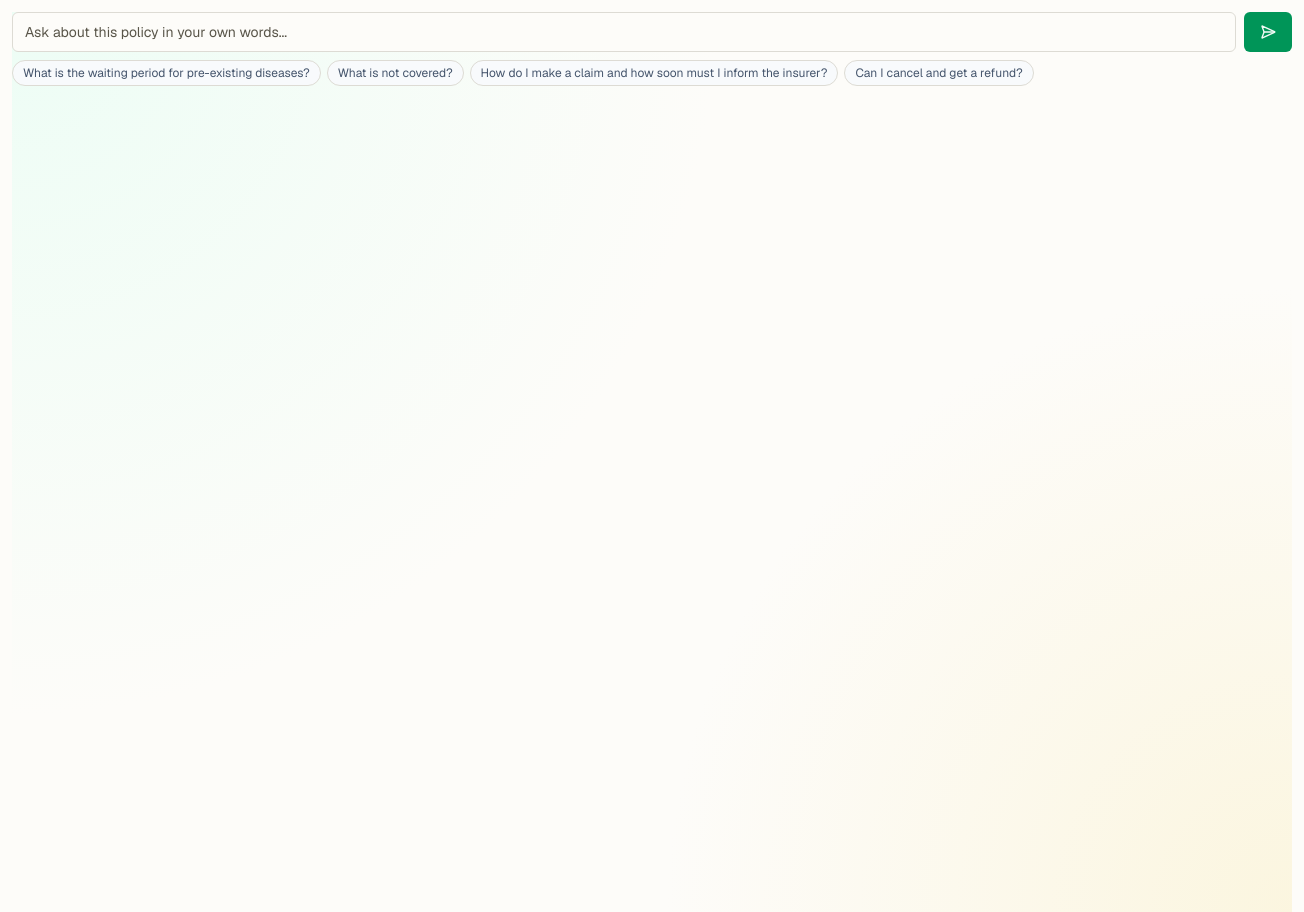
Test case: policy Q&A interface › explains a failure without exposing internals
Type "What is excluded?" into the field with placeholder "Ask about this policy in your own words..." at (624, 32), box left=12, top=12, right=1236, bottom=52
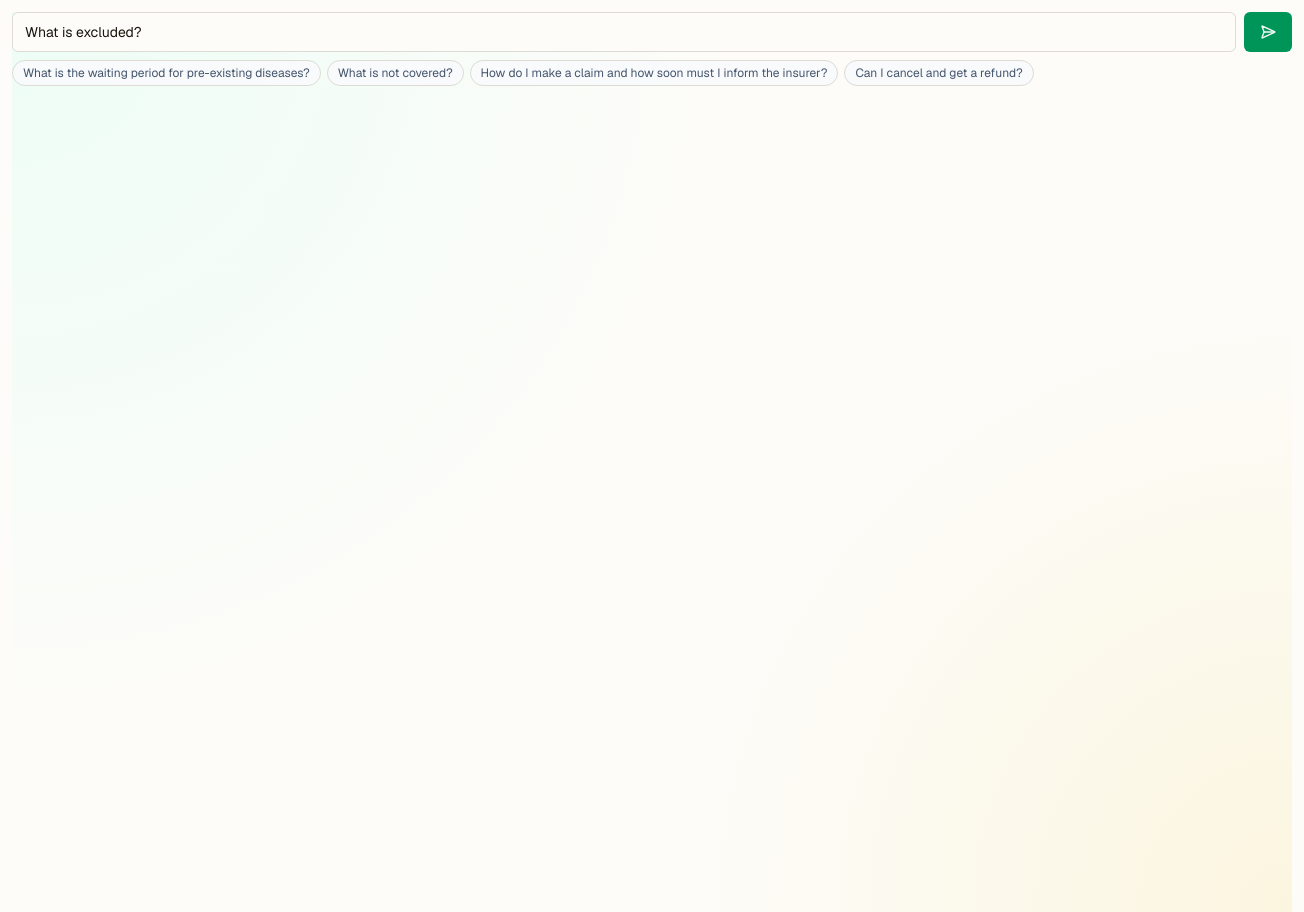
Click the button named "Ask" at (1268, 32), box left=1244, top=12, right=1292, bottom=52
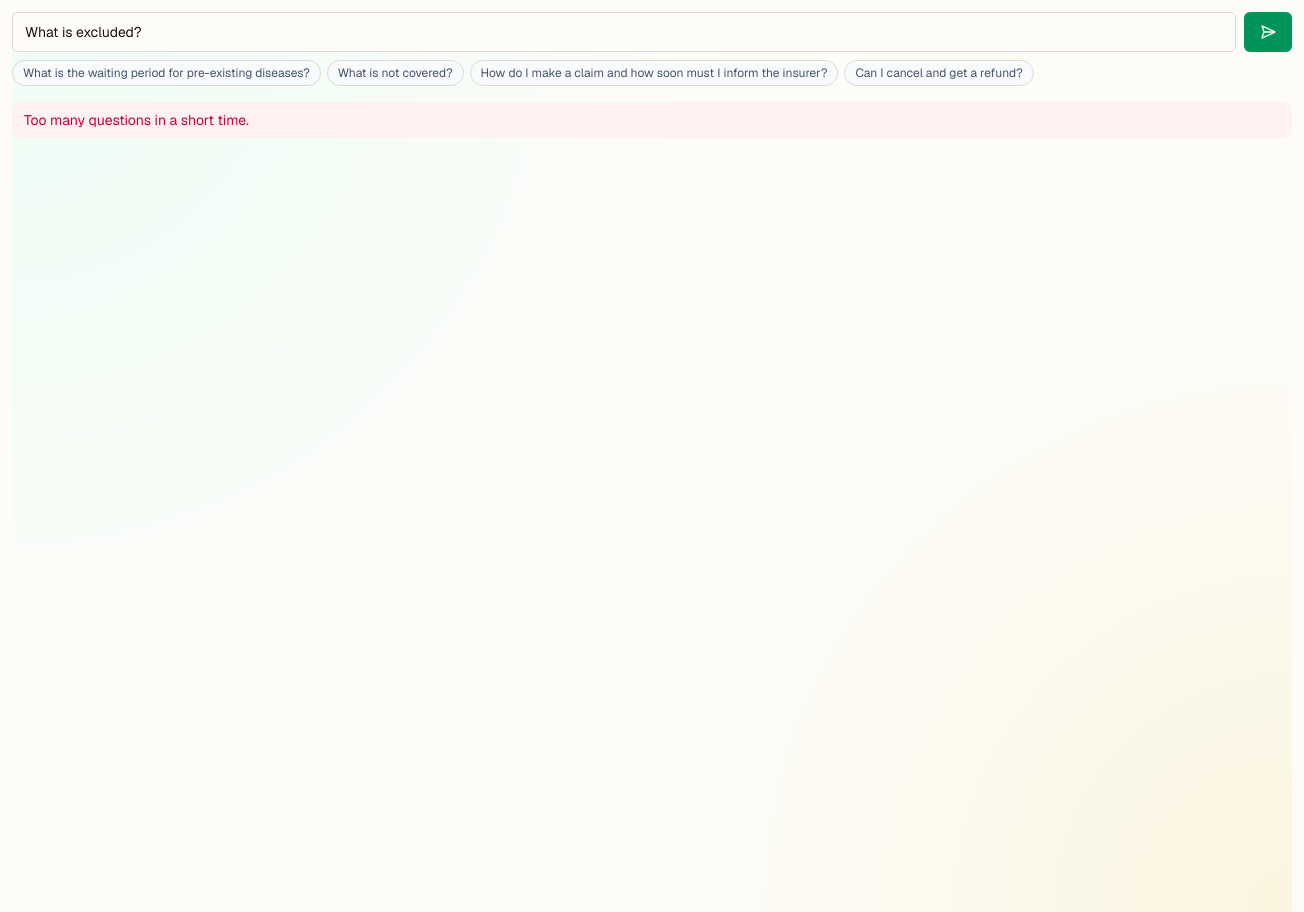
Expected: the message reads "Too many questions in a short time.", left=24, top=111, right=249, bottom=129
